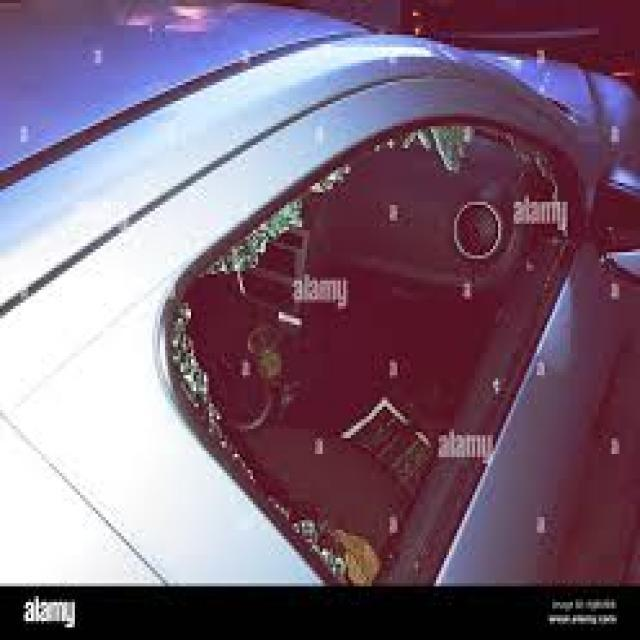damaged-window: (160, 111, 586, 580)
